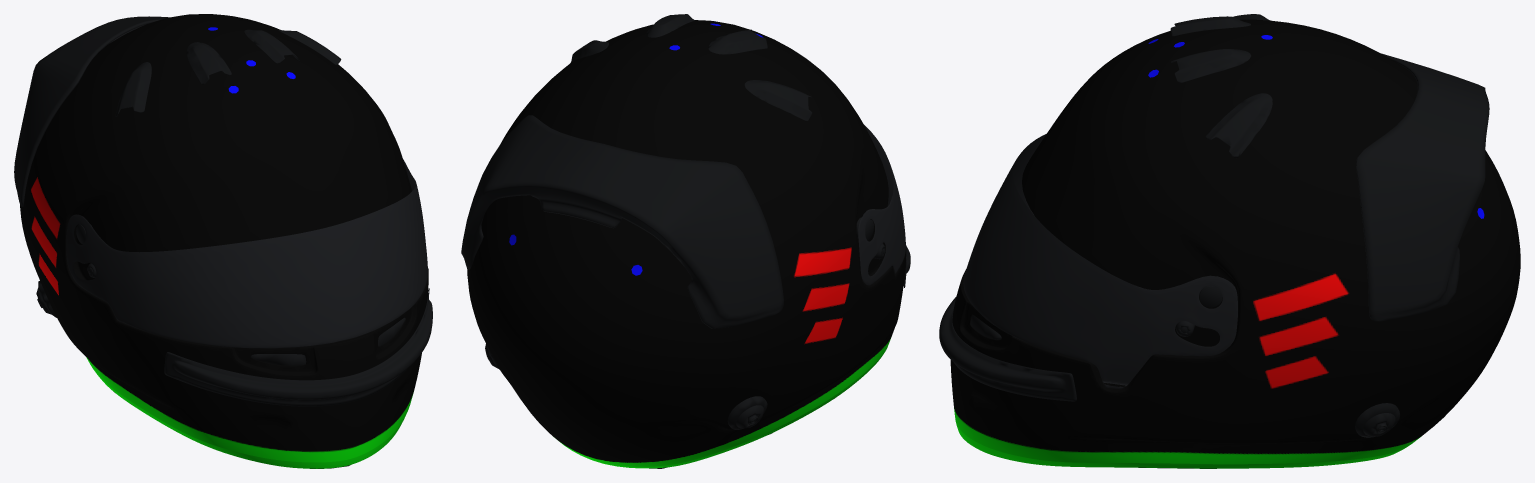
The model's file is hermes-helmet.glb.
3 renders of one model, left to right at view 1: azimuth 30°, elevation 25°; view 2: azimuth 150°, elevation 25°; view 3: azimuth 270°, elevation 25°, orthographic. The views are drawn at different scales.
Parts seen in each view (by area): view 1: Shell, Visor, Trim, Hardware; view 2: Shell, Trim, Hardware, Visor; view 3: Shell, Trim, Visor, Hardware.
Boxes of the visible parts, box(x1,y1,x2,y2) form: Shell: box(20, 14, 428, 468); Visor: box(66, 159, 427, 348); Trim: box(14, 16, 432, 406); Hardware: box(36, 29, 405, 365); Shell: box(467, 20, 906, 468); Trim: box(461, 115, 910, 328); Hardware: box(485, 14, 885, 429); Visor: box(858, 125, 905, 285); Shell: box(950, 19, 1520, 468); Trim: box(939, 53, 1489, 401); Visor: box(963, 134, 1237, 389); Hardware: box(970, 14, 1399, 437).
Size of the model in its own units: 0.2741 by 0.2804 by 0.3734.
Materials: 5 (1 with a texture image).
